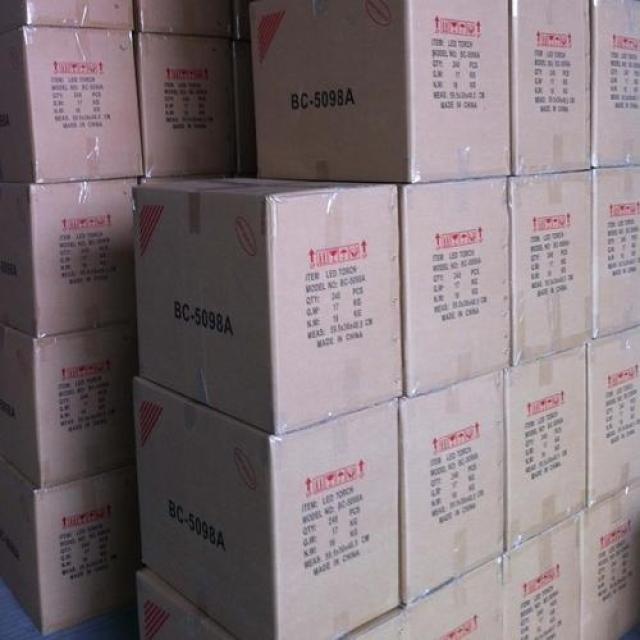box: (134, 373, 401, 638), (132, 177, 403, 435), (249, 1, 510, 183), (393, 178, 511, 399), (1, 461, 147, 636), (399, 370, 505, 608), (0, 320, 138, 488), (0, 24, 143, 183), (0, 176, 139, 338), (505, 345, 587, 552), (510, 172, 593, 368), (134, 32, 236, 177), (511, 1, 592, 176), (504, 510, 586, 639), (587, 326, 639, 509), (582, 481, 639, 639), (403, 556, 505, 639), (593, 165, 639, 342), (592, 0, 639, 168), (135, 567, 236, 638), (236, 605, 404, 638), (0, 0, 133, 36)
